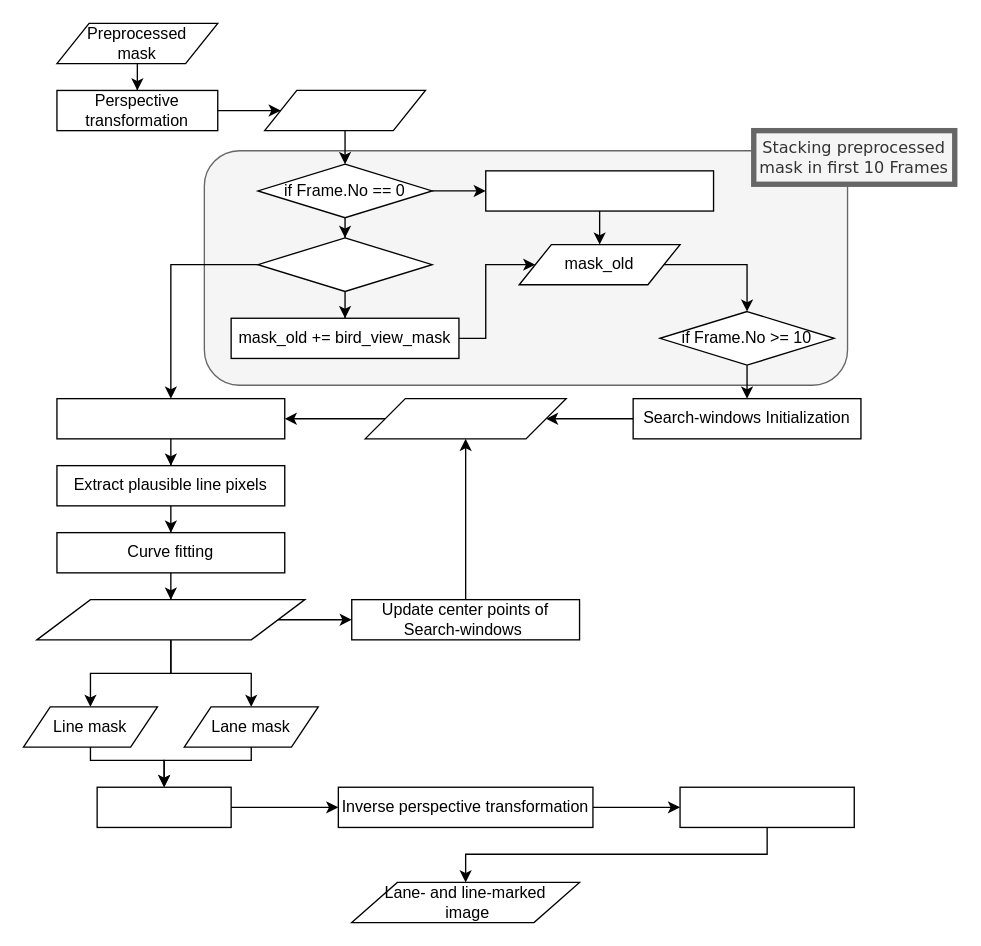
Image size: 981x946. Some labels were removed from this diagram. The shapes that lost their labels are listed below. From the top down, each one's centre as x and y in pixels, then its label:
At [344,110]: "bird_view_mask".
At [599,190]: "mask_old = bird_view_mask".
At [344,264]: "if Frame.No < 10".
At [170,418]: "Sliding-Window methode".
At [465,418]: "Center points of search-windows".
At [170,619]: "Curve fitting coefficients for left and right lines".
At [163,806]: "Combine".
At [766,806]: "Drawing on Image".
